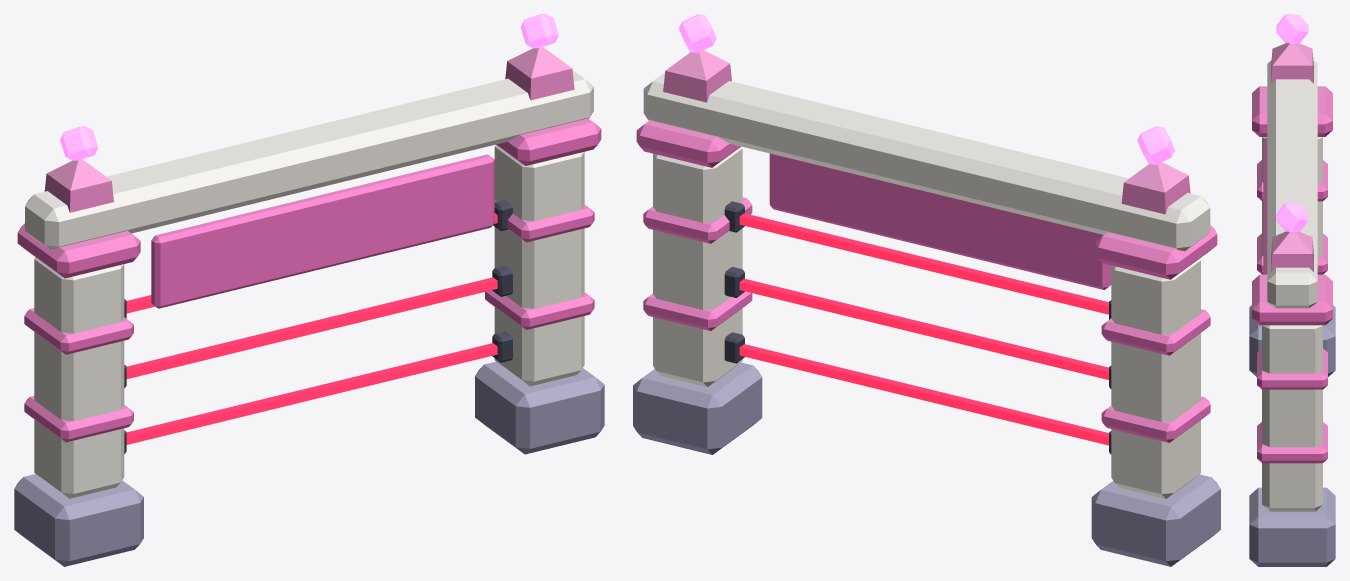
Rendered from Gate_6.glb.
The picture shows the model from 3 angles, left to right: view 1: azimuth 30°, elevation 25°; view 2: azimuth 150°, elevation 25°; view 3: azimuth 270°, elevation 25°; orthographic projection. The views are drawn at different scales.
Visible parts, largest first — view 1: Gate_6, Gate_6_Glow_laser, Gate_6_Glow_acc6; view 2: Gate_6, Gate_6_Glow_laser, Gate_6_Glow_acc6; view 3: Gate_6, Gate_6_Glow_acc6.
Boxes of the visible parts, x1,y1,x2,y2 form: Gate_6: (14, 47, 604, 566); Gate_6_Glow_laser: (126, 213, 497, 444); Gate_6_Glow_acc6: (60, 14, 558, 160); Gate_6: (633, 50, 1220, 566); Gate_6_Glow_laser: (739, 213, 1108, 445); Gate_6_Glow_acc6: (678, 14, 1175, 164); Gate_6: (1249, 43, 1335, 566); Gate_6_Glow_acc6: (1276, 14, 1308, 232).
Size of the model in its own units: 21 by 15.25 by 3.4.
3 materials, 1 textured.
